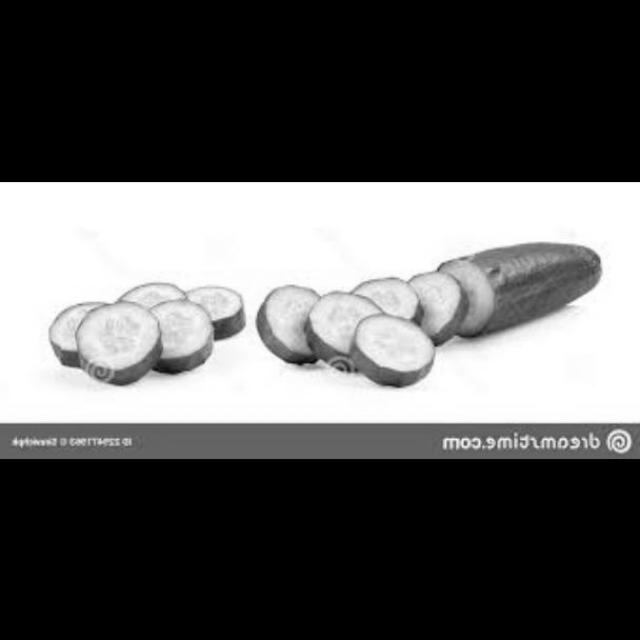dua chuot: (256, 262, 466, 391), (49, 271, 246, 386), (431, 228, 603, 343)
